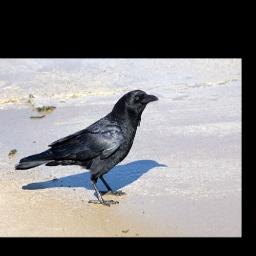Crow: (14, 90, 159, 207)
